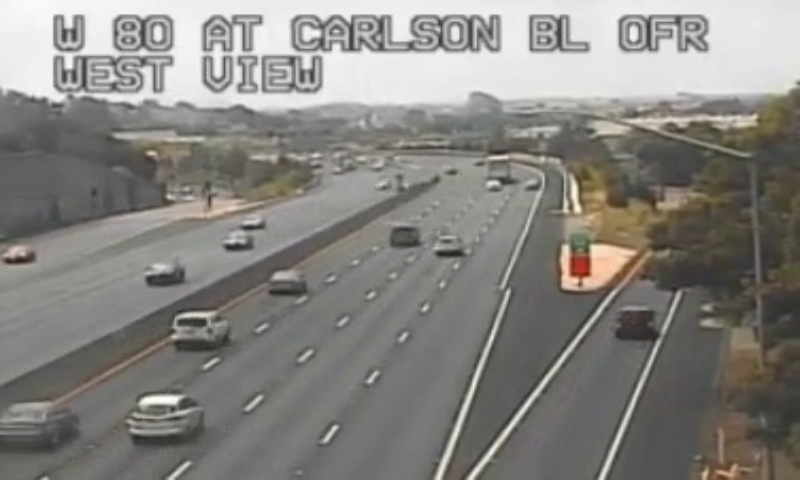car: (2, 400, 76, 449), (125, 392, 204, 437), (171, 311, 228, 345), (614, 306, 655, 341), (267, 269, 306, 295), (390, 223, 418, 247), (432, 235, 462, 253)
